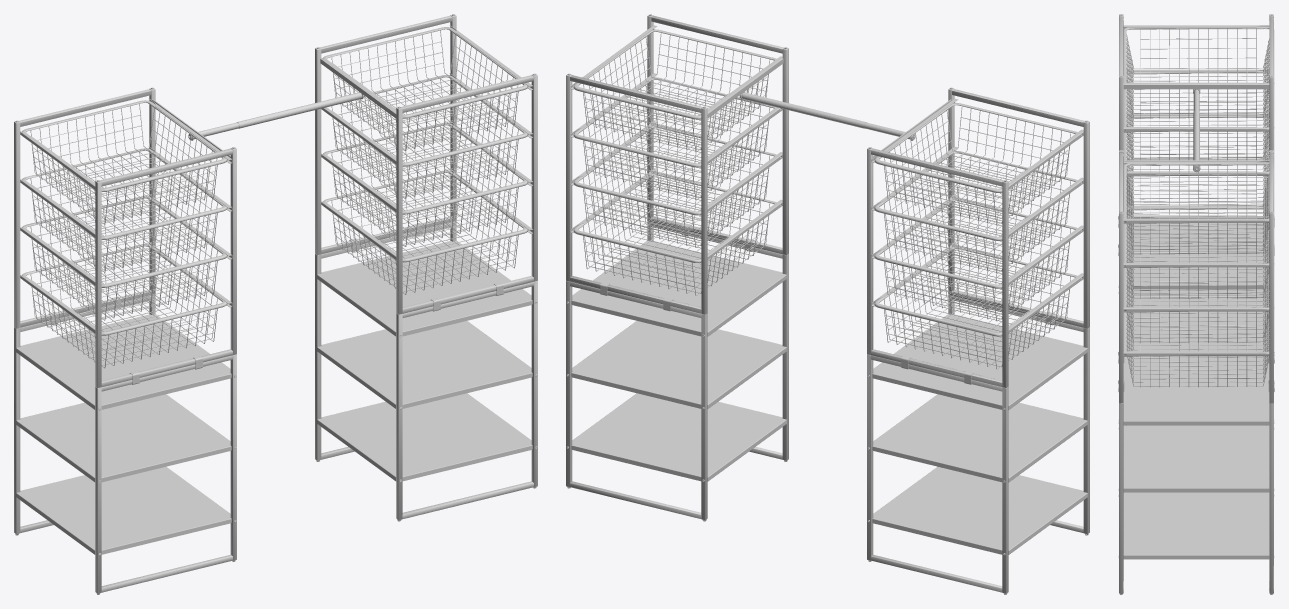
Rendered from jonaxel_kombinacja_szafy_59317554.glb.
3 renders of one model, left to right at view 1: azimuth 30°, elevation 25°; view 2: azimuth 150°, elevation 25°; view 3: azimuth 270°, elevation 25°, orthographic. The views are drawn at different scales.
Visible parts, largest first — view 1: jonaxel_kombinacja_szafy_59317554; view 2: jonaxel_kombinacja_szafy_59317554; view 3: jonaxel_kombinacja_szafy_59317554.
Part boxes in pixels (box(x1,y1,x2,y2)): jonaxel_kombinacja_szafy_59317554: box(14, 14, 537, 594); jonaxel_kombinacja_szafy_59317554: box(566, 14, 1089, 594); jonaxel_kombinacja_szafy_59317554: box(1118, 14, 1274, 594).
Bounding box in the file's own units: 1.56 × 1.4 × 0.5176.
2 materials, 1 textured.
